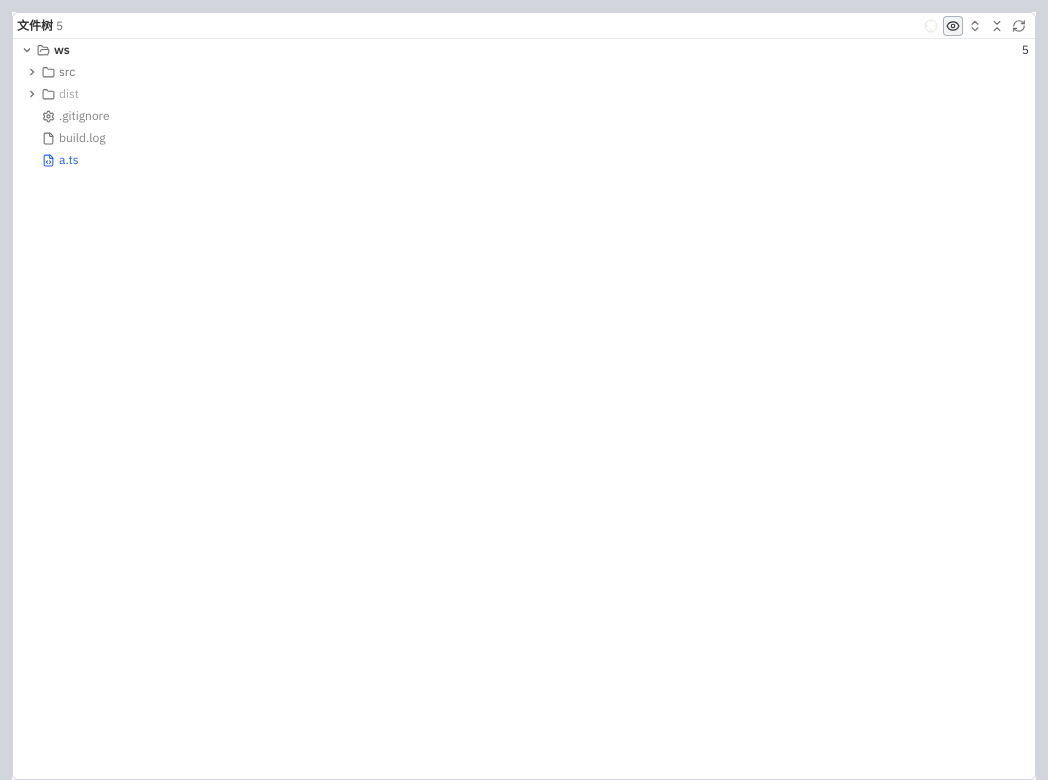
FileTree 忽略开关（spec §6.3 方案 A） › 点击开关后被忽略条目从 DOM 消失，点文件不受影响
Expected: the list item "dist" is shown, top-left (13, 83), bottom-right (1035, 105)
Click the button named "隐藏被忽略文件". click: (953, 26)
box: top-left (943, 16), bottom-right (963, 36)
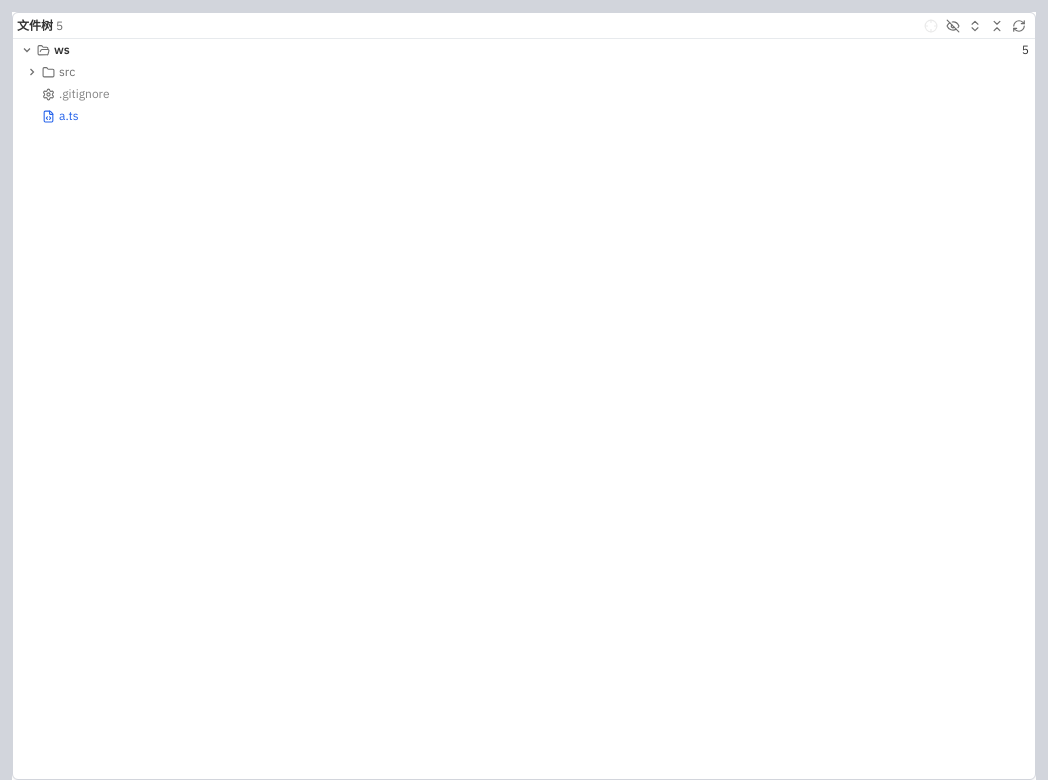
Expected: the list item ".gitignore" is shown, top-left (13, 83), bottom-right (1035, 105)
Result: the list item "dist" is gone
Result: the list item "build.log" is gone
